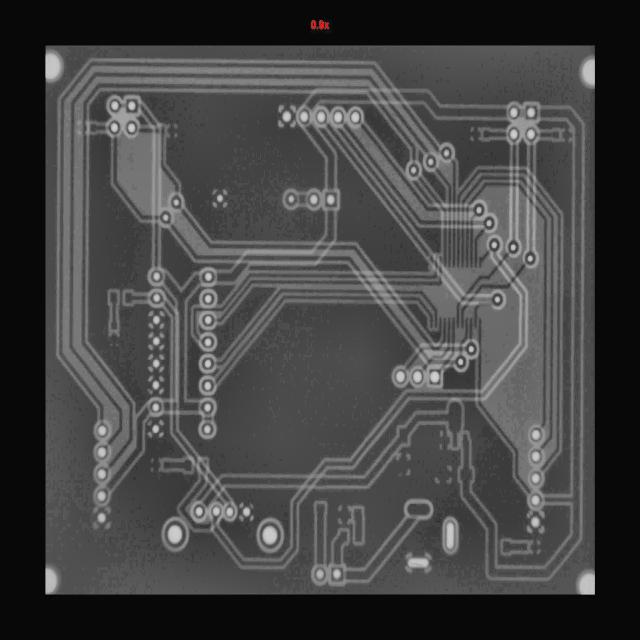Both: (256, 519, 284, 551), (162, 519, 188, 549), (45, 53, 60, 79), (445, 520, 456, 551), (407, 556, 431, 570), (579, 574, 595, 595), (505, 125, 523, 143), (452, 353, 470, 371), (149, 354, 165, 374), (583, 59, 595, 85), (45, 569, 57, 594), (528, 492, 545, 509), (106, 119, 123, 136), (200, 355, 217, 372), (324, 192, 339, 211), (150, 290, 165, 309), (150, 310, 163, 331), (528, 513, 544, 530), (93, 467, 110, 483), (107, 97, 123, 114), (489, 291, 505, 308), (148, 334, 163, 352), (312, 566, 327, 584), (280, 107, 294, 126), (95, 509, 109, 528), (463, 341, 479, 357), (95, 488, 110, 505), (393, 368, 408, 385), (523, 250, 538, 267), (348, 108, 362, 126), (307, 190, 321, 208), (529, 448, 543, 465), (151, 376, 163, 395), (213, 191, 227, 207), (506, 239, 520, 255), (472, 202, 486, 218), (298, 108, 311, 125), (283, 191, 296, 208), (150, 399, 163, 416), (440, 146, 454, 161), (524, 126, 537, 142), (210, 503, 223, 519), (96, 445, 109, 461), (411, 369, 424, 385), (488, 237, 501, 253), (483, 215, 496, 231), (150, 422, 162, 439), (201, 270, 215, 284), (200, 335, 215, 348), (530, 427, 543, 442), (201, 422, 214, 436), (126, 99, 139, 113), (333, 110, 345, 125), (161, 210, 172, 226), (201, 379, 214, 392), (170, 194, 182, 208), (202, 313, 214, 327), (126, 121, 138, 135), (316, 109, 326, 125), (202, 293, 215, 305), (201, 401, 214, 413), (241, 505, 253, 518), (332, 567, 343, 581), (530, 471, 541, 485), (194, 504, 205, 518), (526, 106, 537, 119), (509, 105, 519, 119), (225, 505, 235, 519), (97, 424, 107, 438), (430, 370, 440, 384), (426, 155, 436, 168), (151, 271, 161, 284), (409, 164, 419, 176)
L1: (459, 109, 581, 578), (195, 389, 475, 543), (455, 169, 561, 471), (182, 224, 443, 343), (200, 262, 436, 384), (460, 176, 554, 451), (204, 263, 440, 366), (465, 182, 547, 429), (208, 250, 446, 322), (455, 319, 532, 500), (204, 210, 344, 286), (93, 133, 162, 231), (160, 273, 205, 411), (449, 255, 529, 327), (446, 246, 509, 328), (305, 92, 510, 117), (170, 459, 222, 534), (137, 122, 181, 199), (406, 315, 457, 378), (414, 317, 465, 375), (418, 177, 447, 268), (434, 166, 451, 268), (441, 318, 457, 370), (468, 225, 486, 269), (330, 531, 348, 567), (451, 160, 456, 268), (317, 505, 325, 564), (470, 298, 491, 318), (468, 213, 476, 265), (459, 317, 468, 355), (407, 503, 431, 516), (475, 249, 490, 269), (164, 461, 191, 472), (482, 128, 509, 138), (503, 541, 527, 552), (354, 510, 362, 541), (111, 293, 117, 329), (126, 293, 147, 303), (536, 131, 559, 138), (296, 194, 310, 205), (90, 124, 109, 132), (519, 109, 527, 117), (470, 318, 472, 342), (121, 103, 126, 108)
L2: (192, 251, 563, 585), (164, 209, 482, 357), (154, 224, 470, 368), (309, 121, 494, 315), (320, 120, 486, 254), (137, 300, 232, 515), (342, 121, 476, 233), (339, 502, 419, 591), (92, 406, 166, 490), (138, 102, 172, 266), (289, 121, 350, 191), (529, 141, 533, 253), (512, 141, 516, 240)
